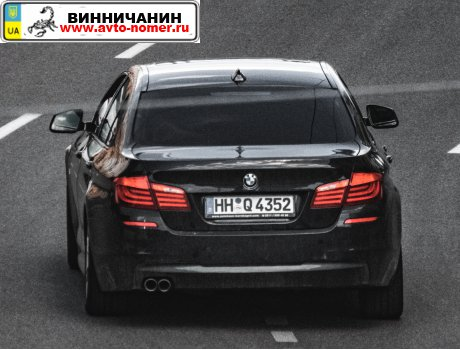License Plates: (208, 194, 298, 211)
